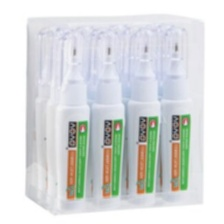book: (22, 11, 208, 219)
correction_fluid: (86, 27, 128, 213), (123, 26, 162, 210), (53, 28, 91, 215), (159, 24, 195, 205)
